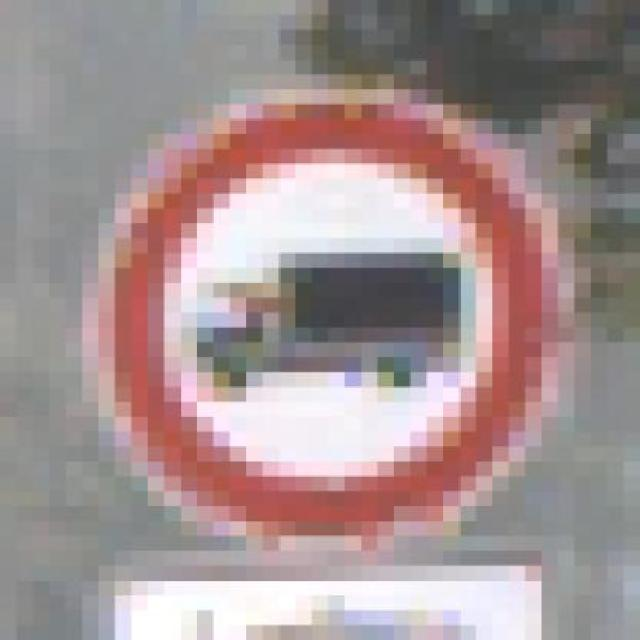Truck traffic is prohibited: (66, 74, 574, 566)
